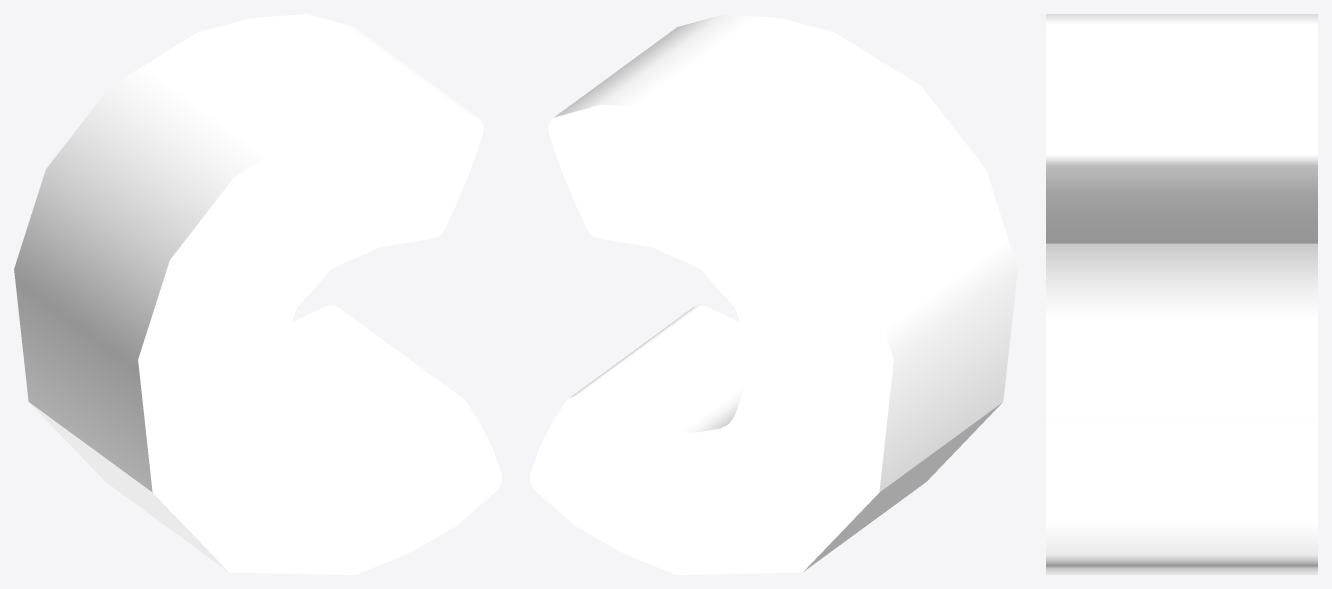
Rendered from C_Zyzol_White.glb.
The picture shows the model from 3 angles, left to right: view 1: azimuth 30°, elevation 25°; view 2: azimuth 150°, elevation 25°; view 3: azimuth 270°, elevation 25°; orthographic projection. The views are drawn at different scales.
Visible parts, largest first — view 1: c_Zyzol_White; view 2: c_Zyzol_White; view 3: c_Zyzol_White.
Part boxes in pixels (left/top/right/bottom): c_Zyzol_White: left=14, top=14, right=501, bottom=574; c_Zyzol_White: left=530, top=14, right=1017, bottom=574; c_Zyzol_White: left=1046, top=14, right=1317, bottom=574.
Size of what is drawn, in the model's own units: 0.0762 by 0.0923 by 0.045.
2 materials, 2 textured.
